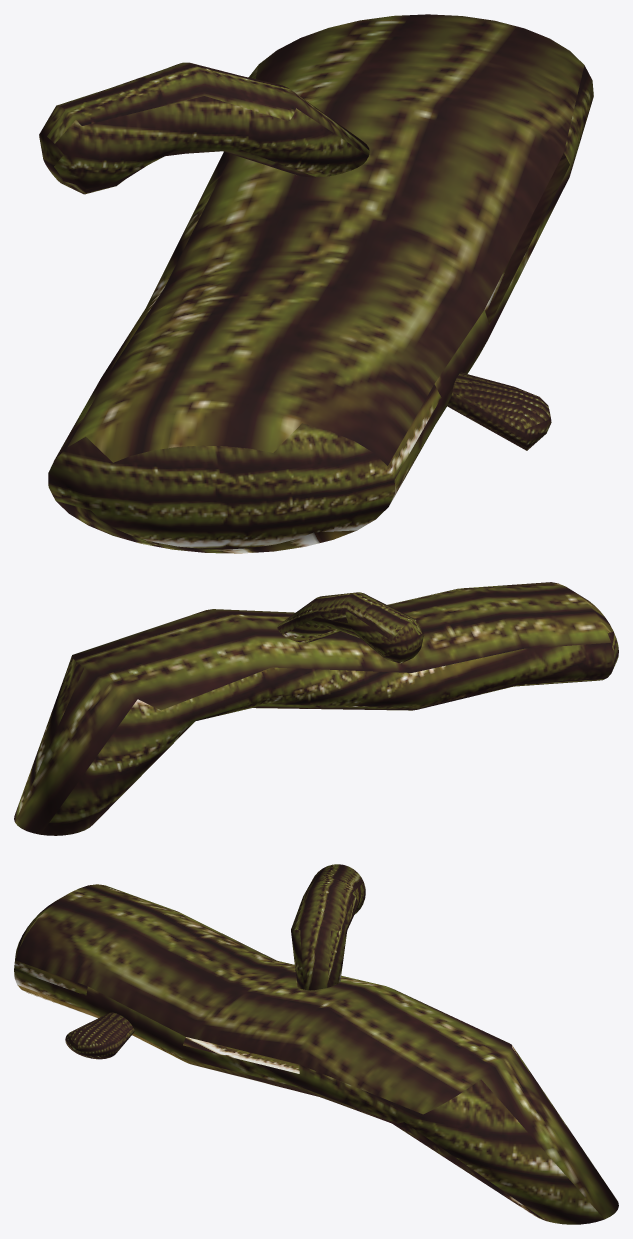
The model's file is CactusDead.fbx.
3 views of the same model, one above another, from view 1: azimuth 30°, elevation 25°; view 2: azimuth 150°, elevation 25°; view 3: azimuth 270°, elevation 25° (orthographic). The views are drawn at different scales.
Parts seen in each view (by area): view 1: CactusDead; view 2: CactusDead; view 3: CactusDead.
Boxes of the visible parts, x1,y1,x2,y2 form: CactusDead: (39, 14, 593, 553); CactusDead: (14, 582, 618, 835); CactusDead: (14, 864, 618, 1224).
Bounding box in the file's own units: 0.2061 × 0.2381 × 0.0932.
